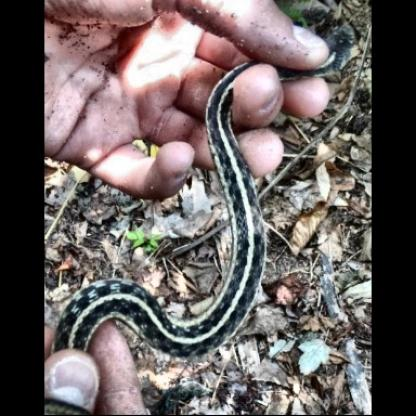Snake: (206, 27, 360, 326), (53, 272, 225, 388)
